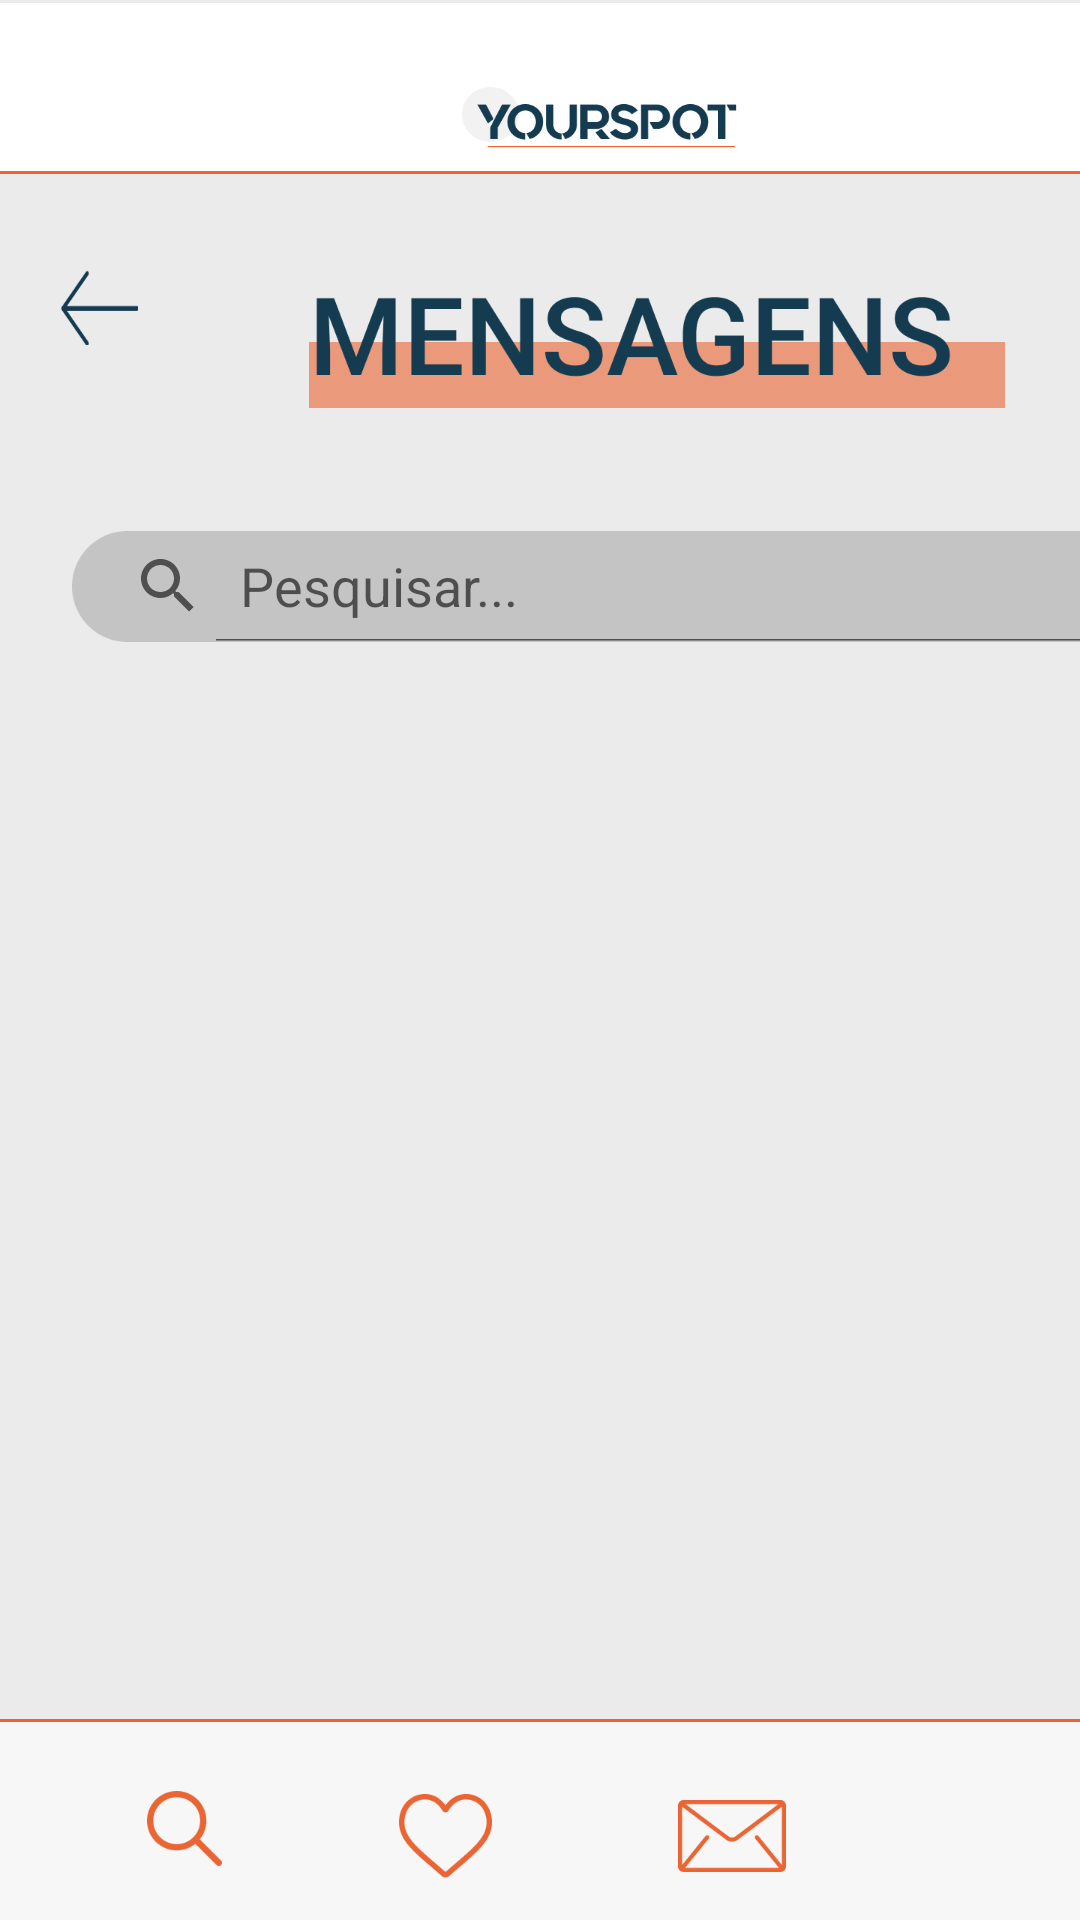

Icon click points for this 1080*1920 phone screenshot, format (x=x, y=y):
iconecoracao menuinf: (x=445, y=1836)
iconemensagem menuinf: (x=732, y=1836)
iconepesquisa menuinf: (x=184, y=1828)
seta retorno: (x=99, y=308)
